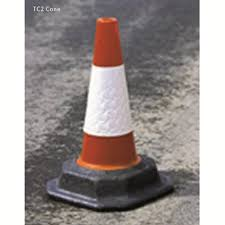cones: (43, 17, 175, 206)
